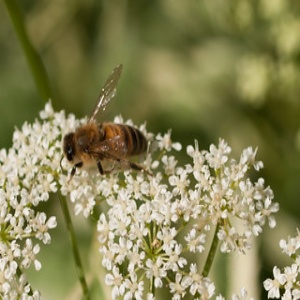bee: (63, 62, 159, 185)
